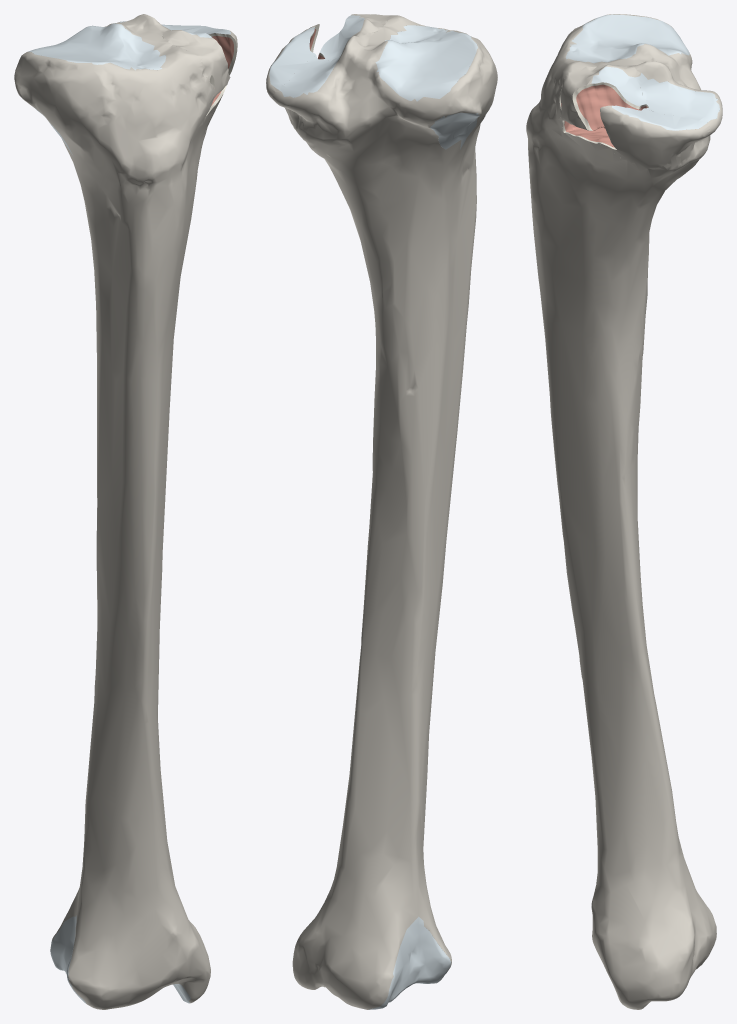
The picture shows the model from 3 angles, left to right: view 1: azimuth 30°, elevation 25°; view 2: azimuth 150°, elevation 25°; view 3: azimuth 270°, elevation 25°; orthographic projection. The views are drawn at different scales.
Parts seen in each view (by area): view 1: tibia: tibia, tibia: depressed fragment, tibia: medial split fragment; view 2: tibia: tibia, tibia: medial split fragment, tibia: depressed fragment; view 3: tibia: tibia, tibia: medial split fragment, tibia: depressed fragment.
Part boxes in pixels (left/top/right/bottom): tibia: tibia: left=14, top=14, right=226, bottom=1009; tibia: depressed fragment: left=160, top=25, right=230, bottom=101; tibia: medial split fragment: left=166, top=25, right=237, bottom=75; tibia: tibia: left=272, top=15, right=497, bottom=1009; tibia: medial split fragment: left=266, top=24, right=319, bottom=98; tibia: depressed fragment: left=318, top=14, right=389, bottom=60; tibia: tibia: left=526, top=14, right=722, bottom=1009; tibia: medial split fragment: left=599, top=105, right=709, bottom=169; tibia: depressed fragment: left=560, top=64, right=647, bottom=130.
Bounding box in the file's own units: 0.0786 × 0.358 × 0.0682.
